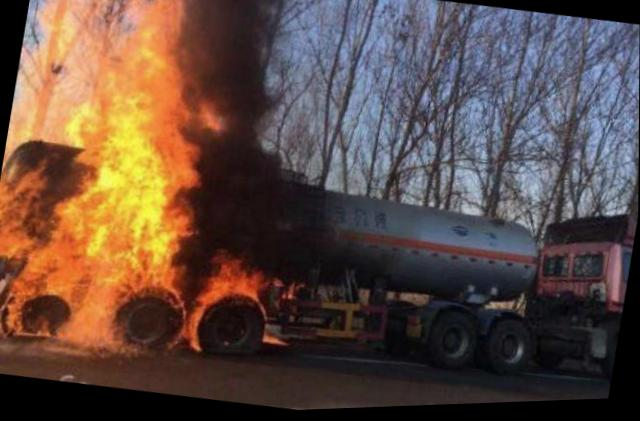fire: (0, 0, 294, 371)
